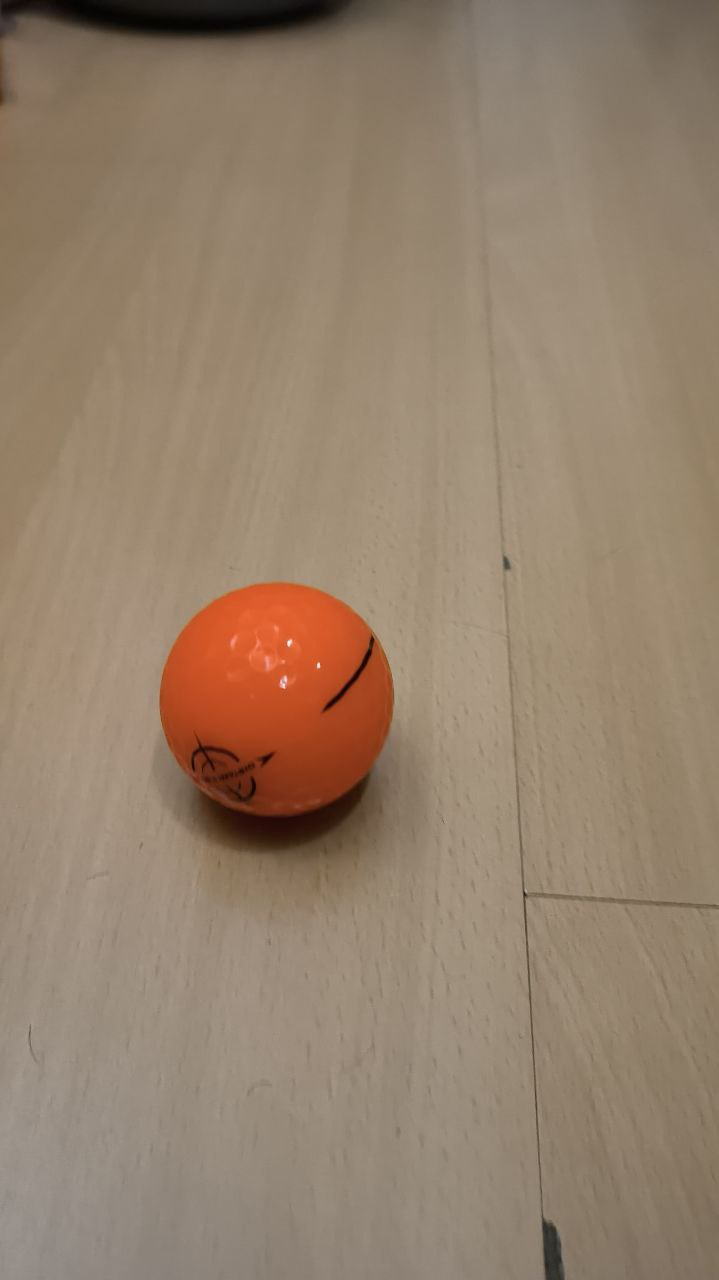orange_ball: (159, 582, 394, 817)
